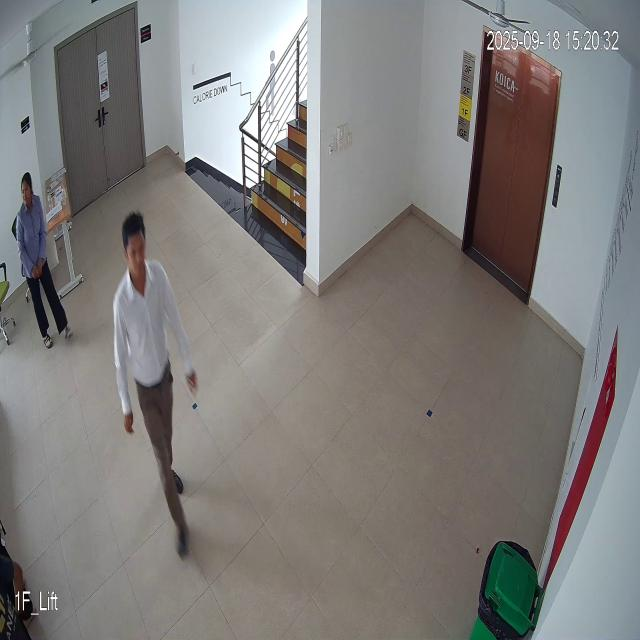face: (120, 211, 151, 280)
